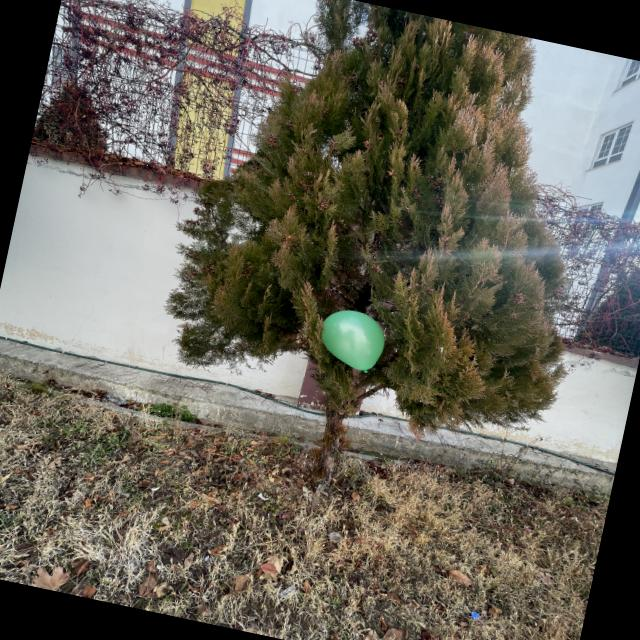balloon: (322, 310, 384, 371)
